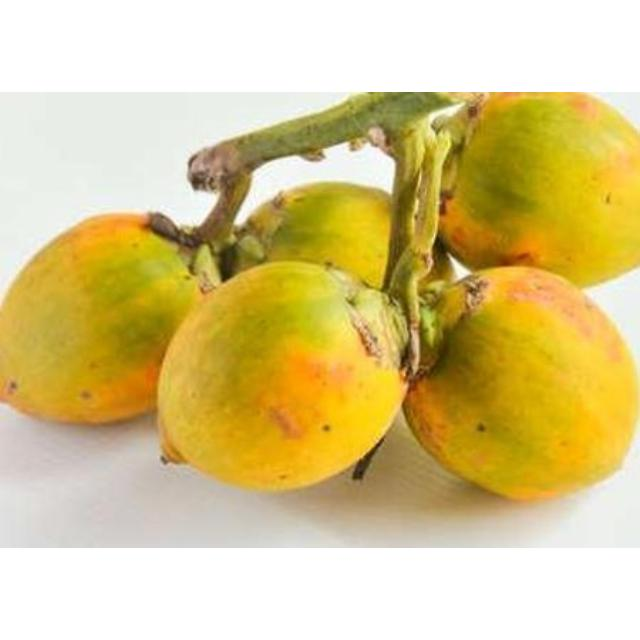good: (156, 261, 412, 494), (401, 267, 639, 504), (0, 213, 202, 428), (437, 92, 639, 291), (238, 183, 395, 290)
